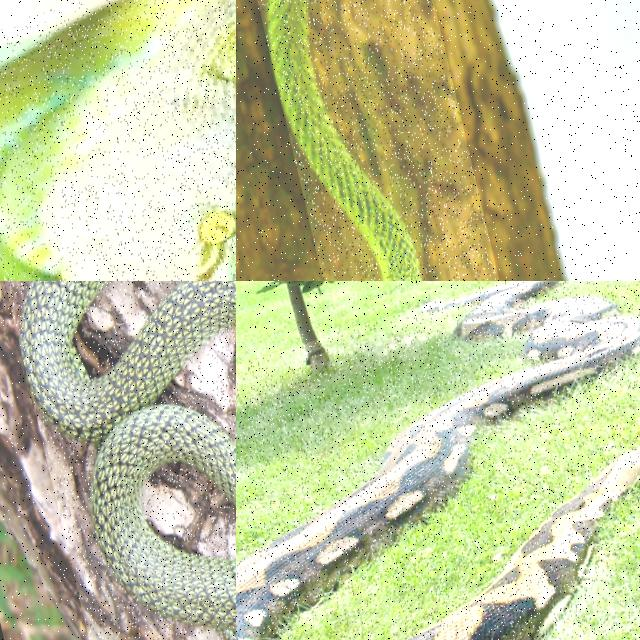Chrysopelea ornata: (23, 281, 235, 633), (268, 0, 421, 280)
Malayopython reticulatus: (236, 281, 639, 639)
Trimeresurus macrops: (0, 0, 235, 280)
snake: (236, 281, 639, 639), (23, 281, 235, 633), (0, 0, 235, 280), (268, 0, 421, 280)
